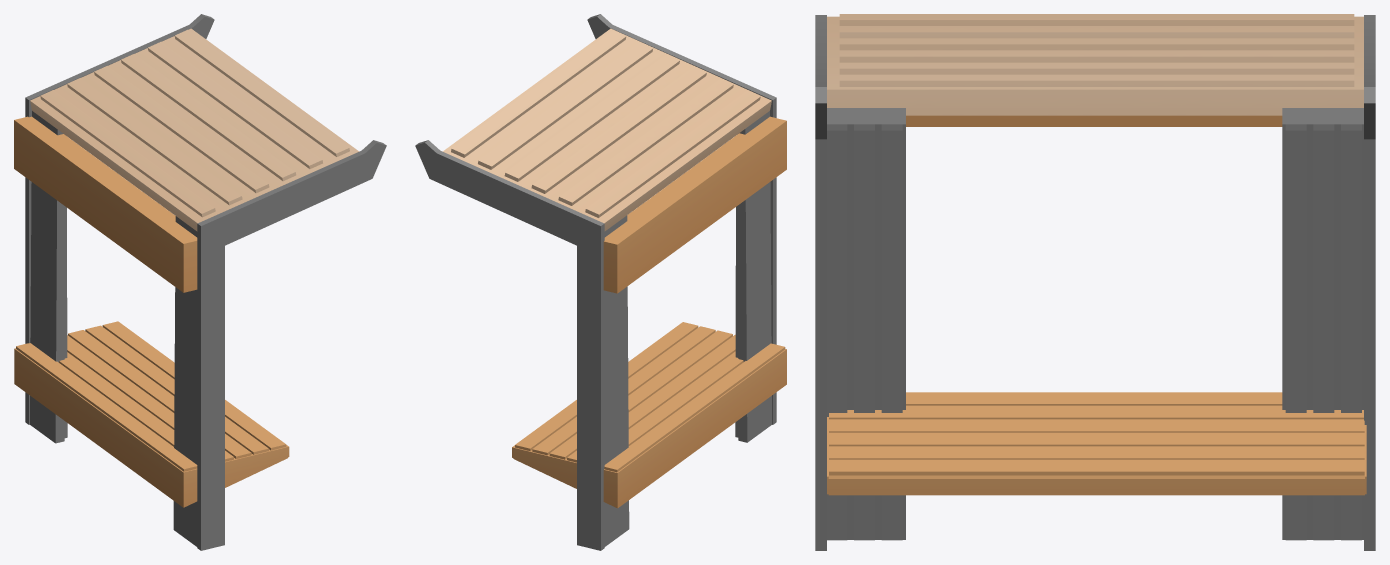
The model's file is Bench_bus.fbx.
3 renders of one model, left to right at view 1: azimuth 30°, elevation 25°; view 2: azimuth 150°, elevation 25°; view 3: azimuth 270°, elevation 25°, orthographic. The views are drawn at different scales.
Visible parts, largest first — view 1: Cube_001_012; view 2: Cube_001_012; view 3: Cube_001_012.
Part boxes in pixels (bbox=[...]): Cube_001_012: bbox=[14, 14, 386, 550]; Cube_001_012: bbox=[415, 14, 786, 550]; Cube_001_012: bbox=[815, 14, 1375, 550].
Bounding box in the file's own units: 4289 × 7500 × 6541.
